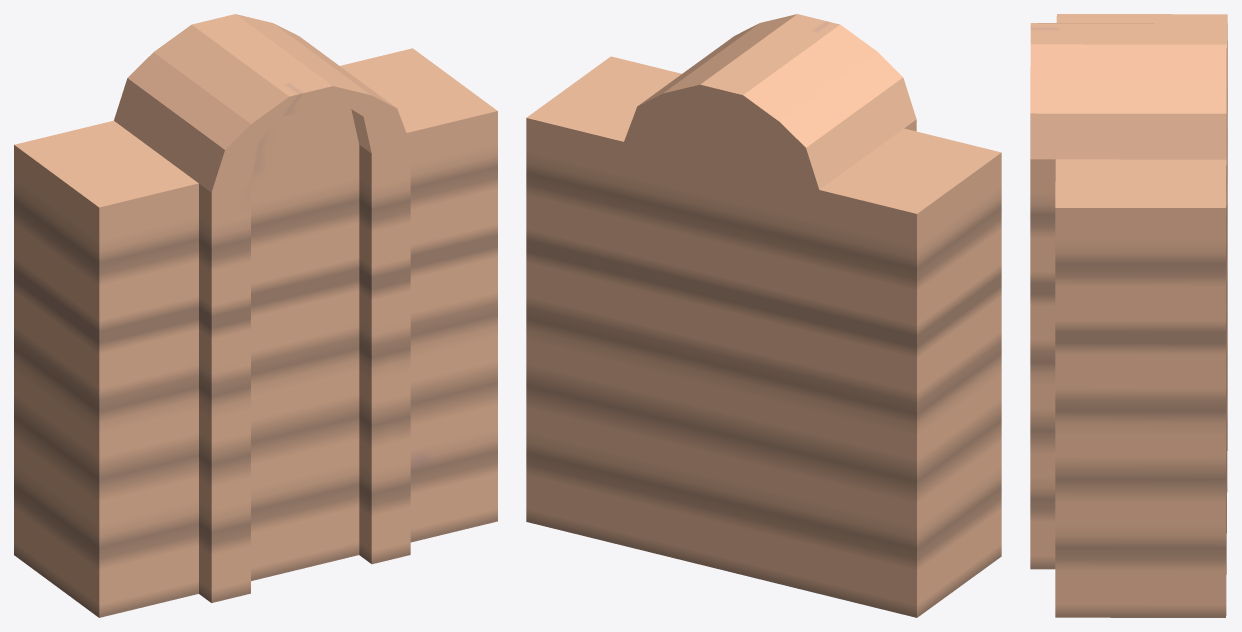
File: BolystonBuilding_Mesh.fbx
3 renders of one model, left to right at view 1: azimuth 30°, elevation 25°; view 2: azimuth 150°, elevation 25°; view 3: azimuth 270°, elevation 25°, orthographic.
Visible parts, largest first — view 1: Cube.001; view 2: Cube.001; view 3: Cube.001.
Part boxes in pixels (x1=…): Cube.001: x1=14, y1=14, x2=497, y2=617; Cube.001: x1=526, y1=14, x2=1001, y2=617; Cube.001: x1=1030, y1=14, x2=1227, y2=617.
Bounding box in the file's own units: 1155 × 1351 × 497.
1 material, 1 textured.
